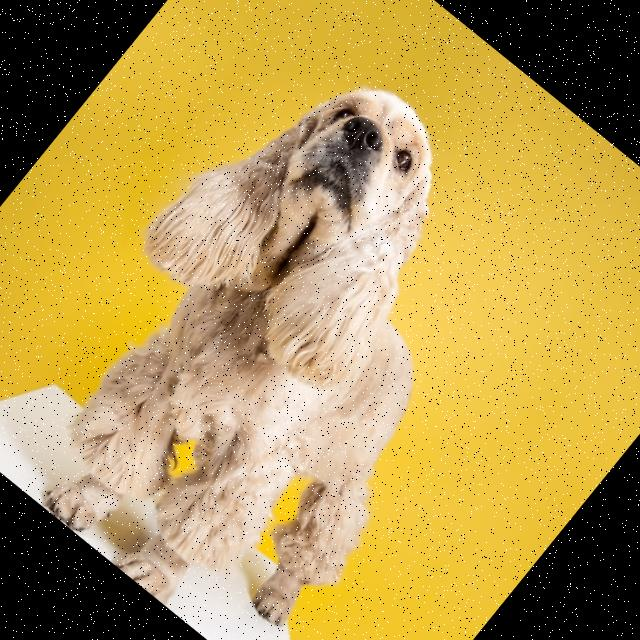Dog: (0, 24, 600, 640)
